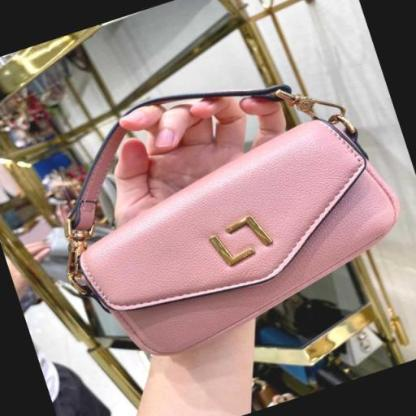bag: (59, 82, 401, 359)
